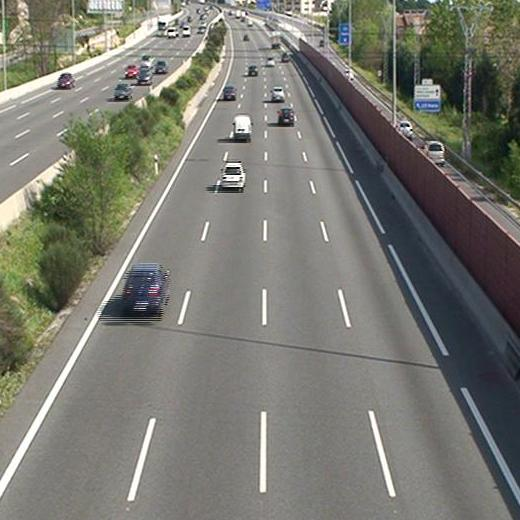car: (123, 265, 169, 314), (221, 161, 246, 190), (277, 107, 294, 125), (223, 86, 237, 99), (271, 86, 284, 100), (247, 64, 258, 75), (264, 56, 274, 66), (280, 51, 289, 61)
van: (232, 114, 252, 141)
